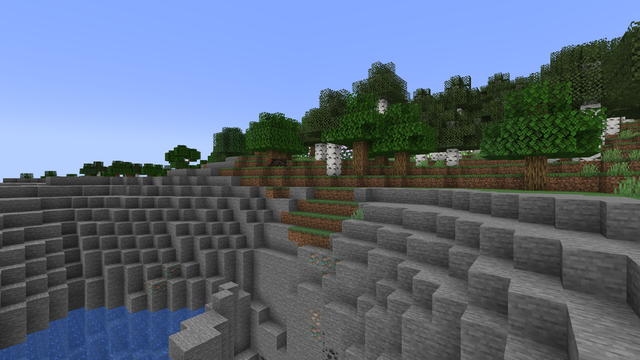araignees: (267, 157, 286, 166)
